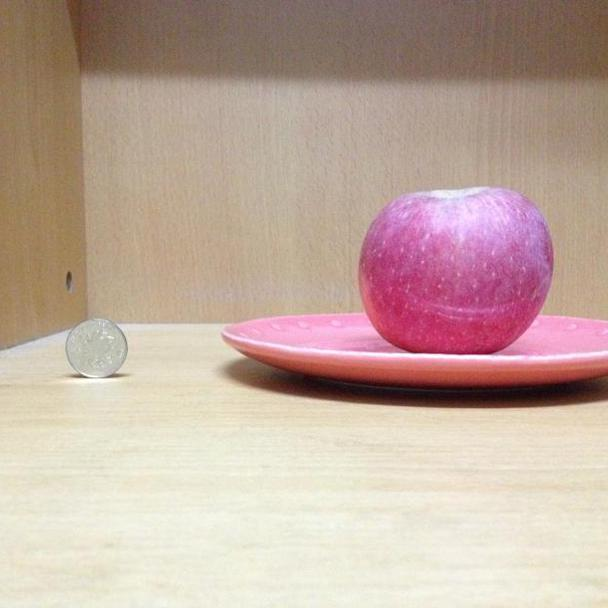apple: (357, 181, 558, 353)
